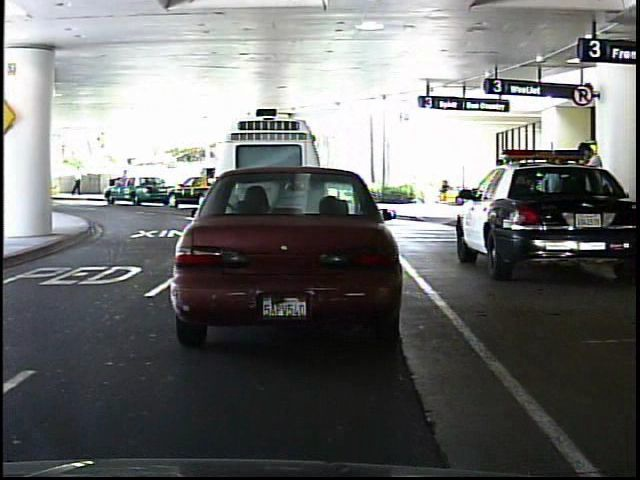person: (574, 136, 613, 255), (115, 166, 135, 201), (71, 162, 85, 197)
